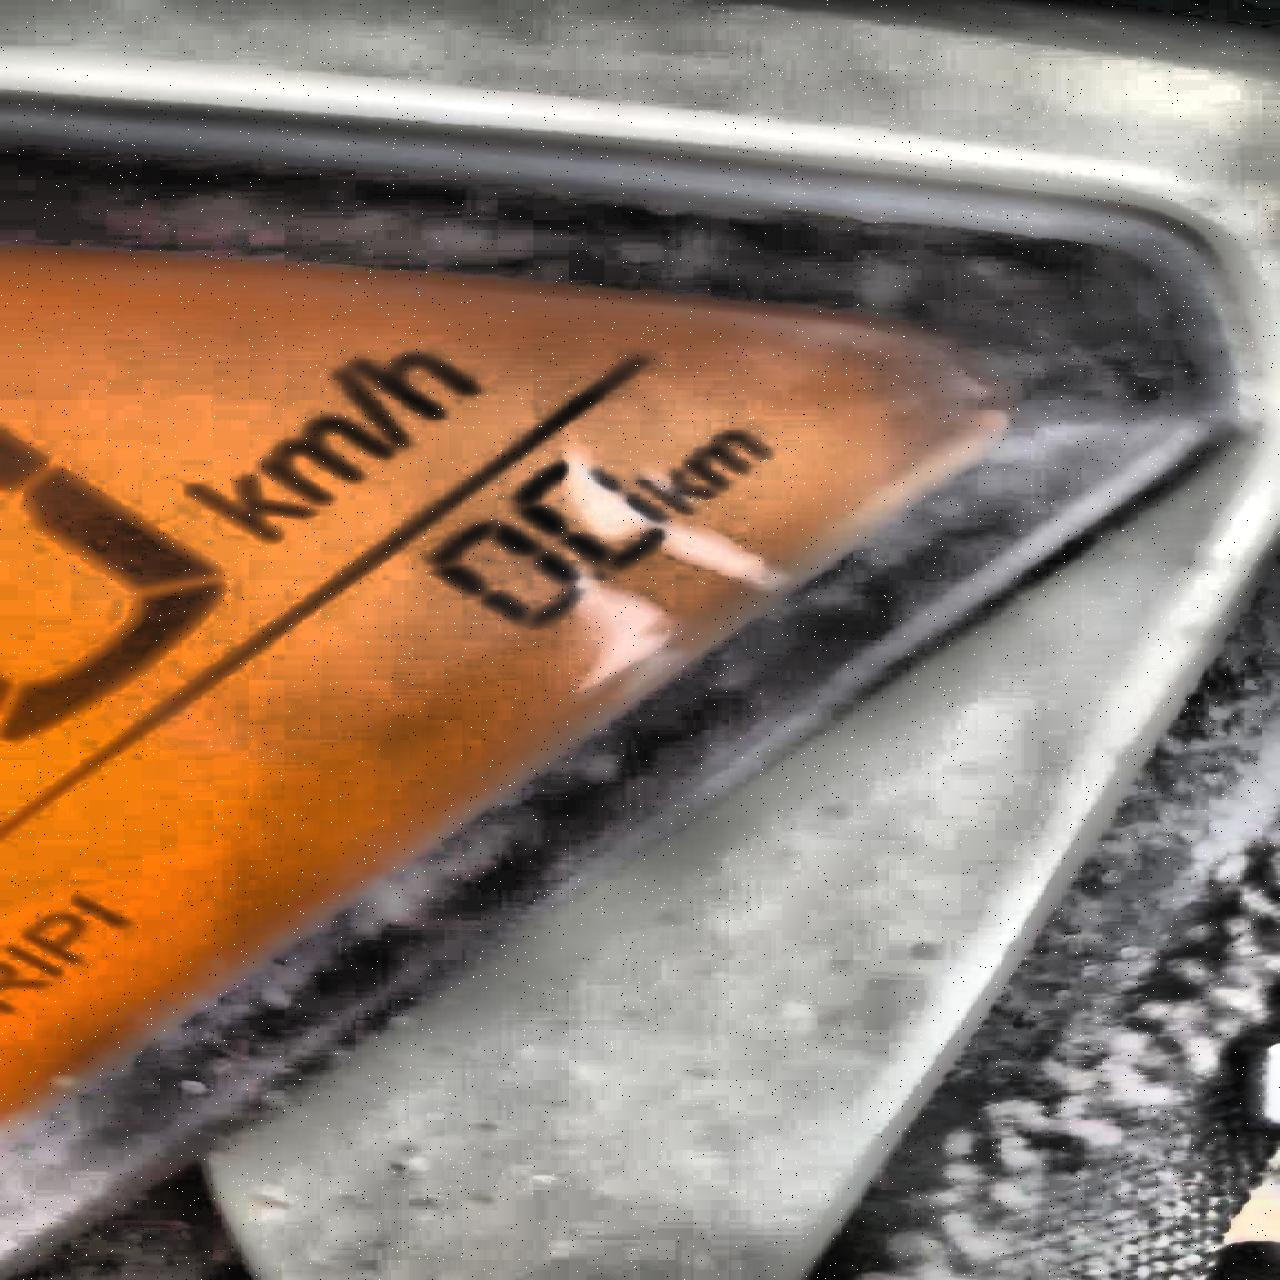0: (513, 457, 674, 567), (424, 523, 585, 626)
1: (57, 886, 142, 934)
X: (253, 417, 395, 503), (352, 342, 485, 420), (171, 474, 311, 544), (322, 368, 422, 447), (687, 429, 776, 488), (629, 469, 719, 513), (20, 911, 94, 961), (2, 942, 60, 979)
odometer: (2, 226, 1062, 1151)
